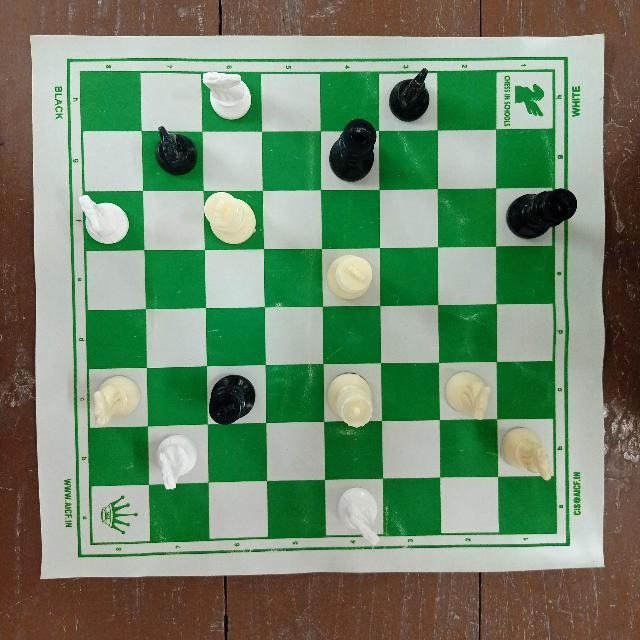black-king: (502, 179, 579, 243), (325, 116, 383, 187), (205, 369, 260, 431)
black-knight: (151, 120, 200, 175), (389, 64, 433, 124)
white-king: (323, 250, 381, 308), (202, 192, 262, 246)
white-knight: (499, 422, 557, 486), (331, 482, 383, 548), (75, 190, 134, 248), (197, 66, 255, 123), (441, 365, 493, 427), (150, 434, 201, 494), (84, 375, 144, 425)
white-queen: (324, 367, 375, 431)
